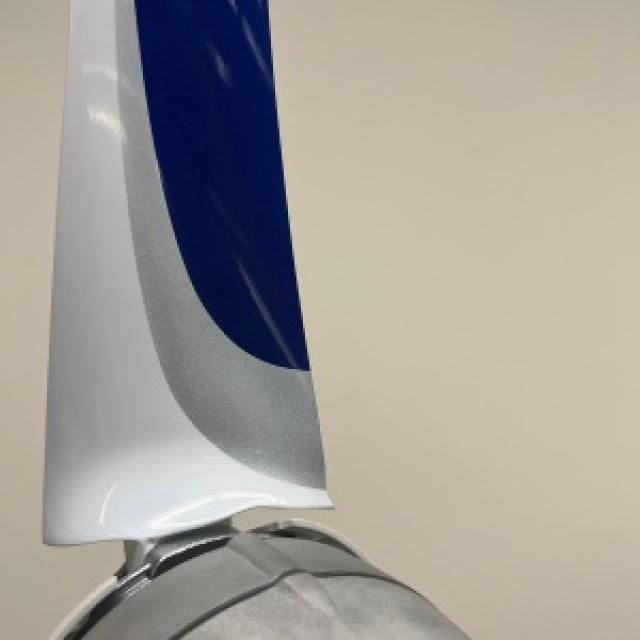healthy: (0, 0, 119, 638)
